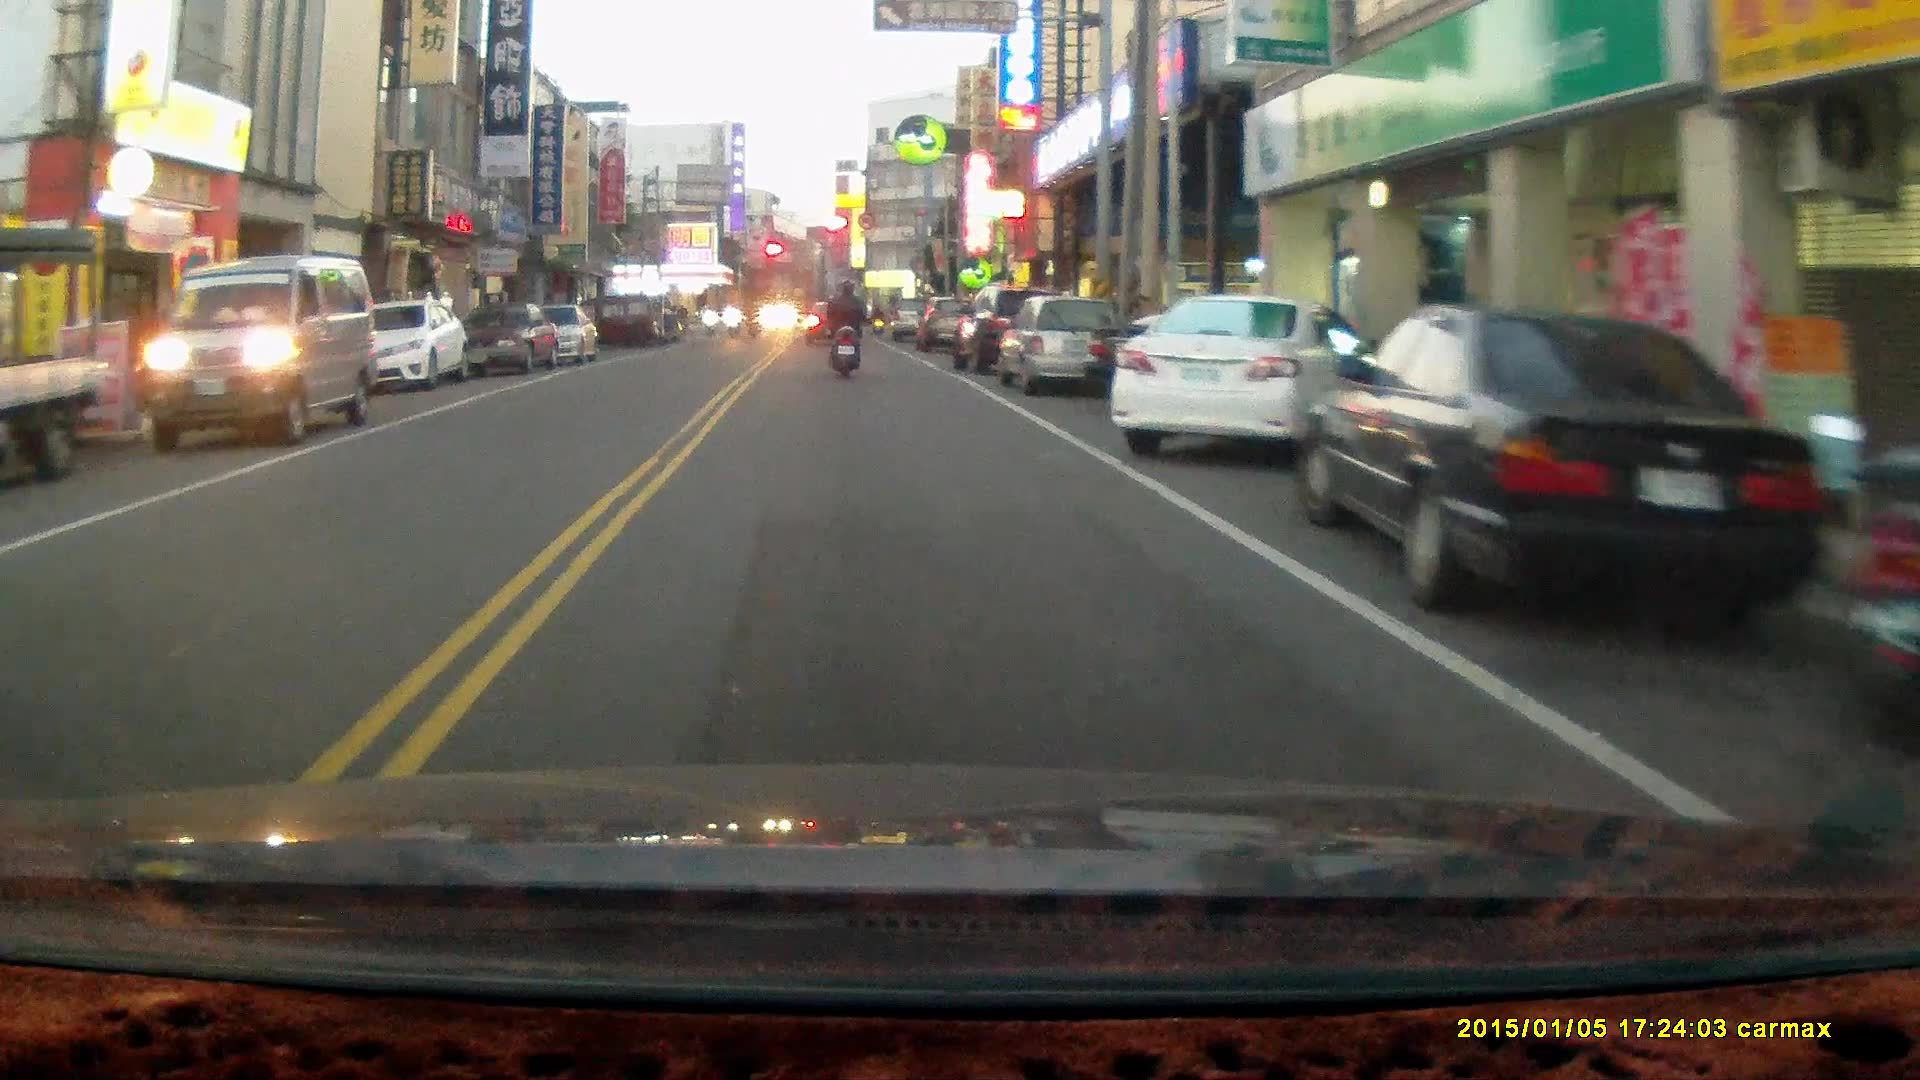rider: (823, 276, 869, 378)
vehicle: (1299, 302, 1856, 613), (151, 255, 381, 447), (1111, 290, 1365, 461), (0, 220, 99, 484), (996, 292, 1129, 393), (351, 299, 472, 390)
